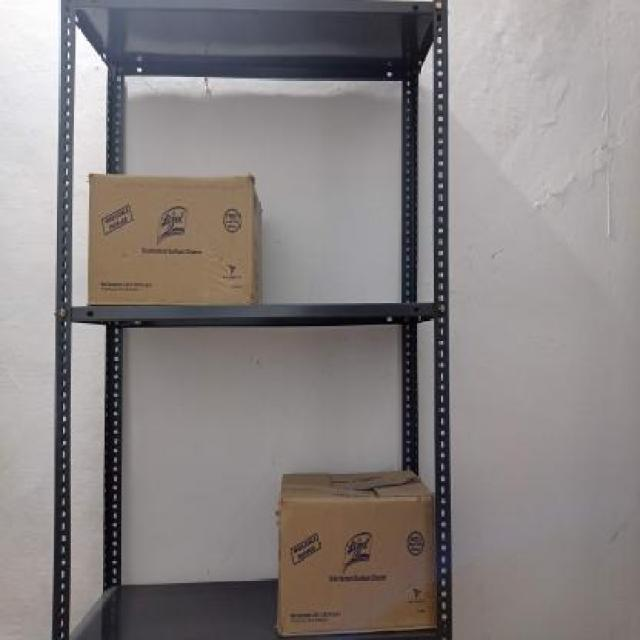box: (88, 171, 256, 304), (279, 499, 436, 630)
